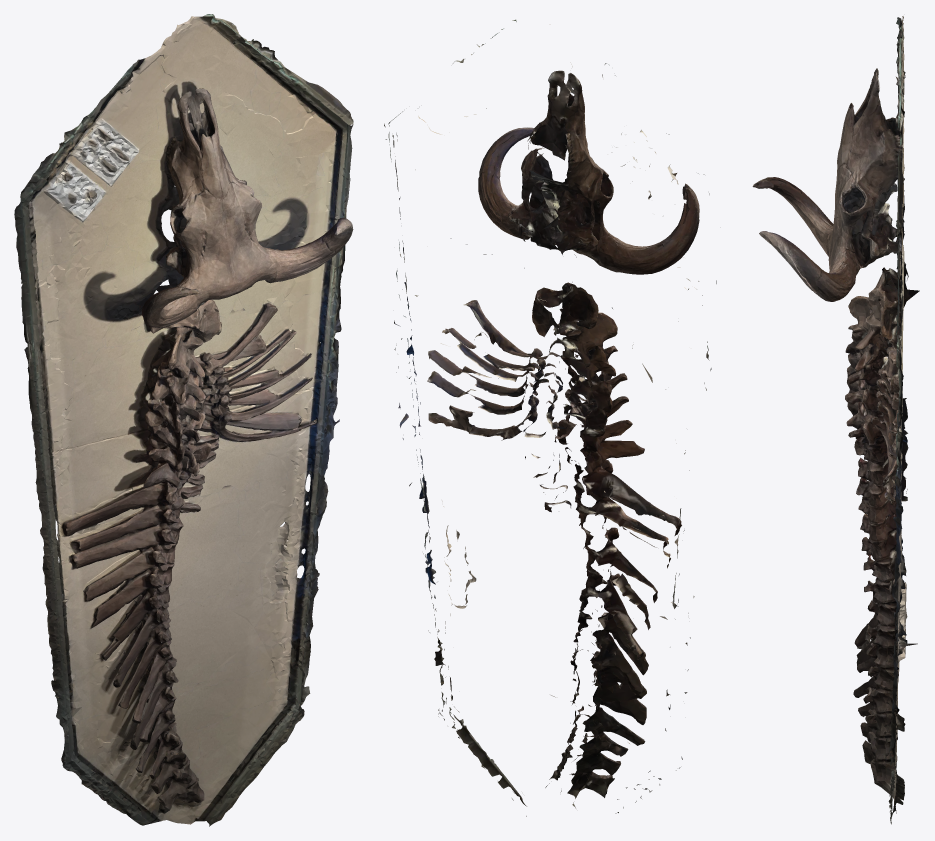
Rendered from skeleton.glb.
3 renders of one model, left to right at view 1: azimuth 30°, elevation 25°; view 2: azimuth 150°, elevation 25°; view 3: azimuth 270°, elevation 25°, orthographic.
Parts seen in each view (by area): view 1: default; view 2: default; view 3: default.
Boxes of the visible parts, box(x1,y1,x2,y2) form: default: box(14, 14, 353, 826); default: box(384, 19, 716, 816); default: box(752, 16, 919, 824).
Size of the model in its own units: 25.86 by 59.1 by 11.18.
Materials: 1 (1 with a texture image).
